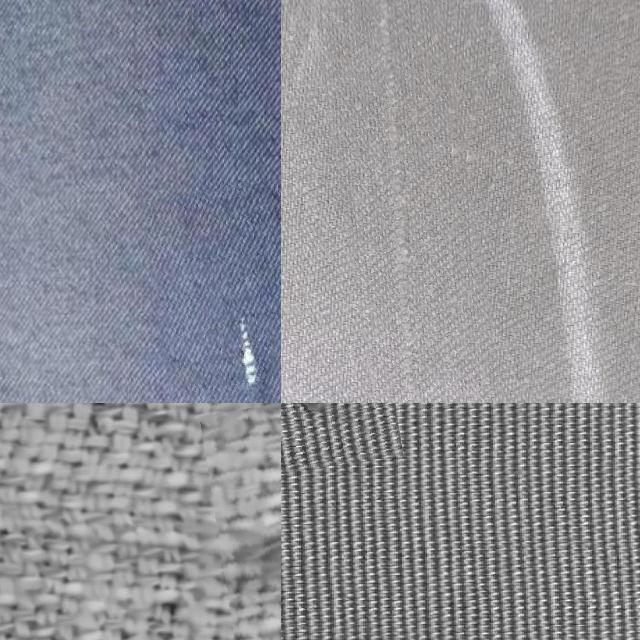Thread_other: (328, 0, 502, 403), (151, 172, 281, 403)
seam: (207, 403, 281, 640), (281, 403, 398, 471)
